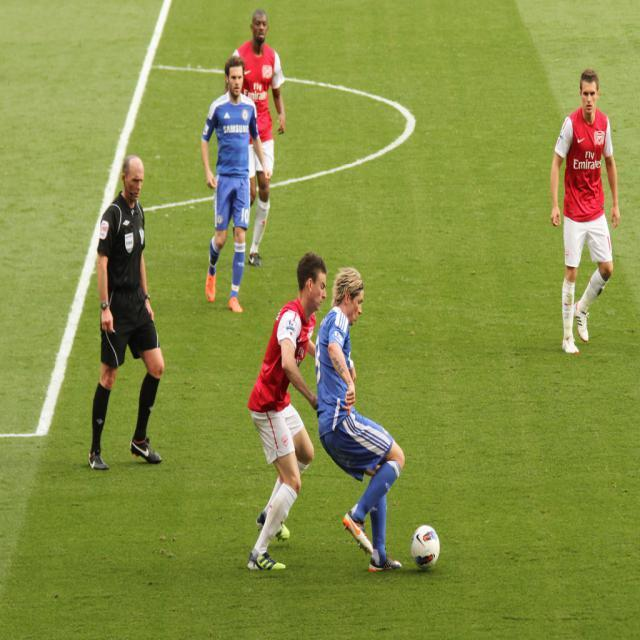football: (407, 526, 462, 580)
